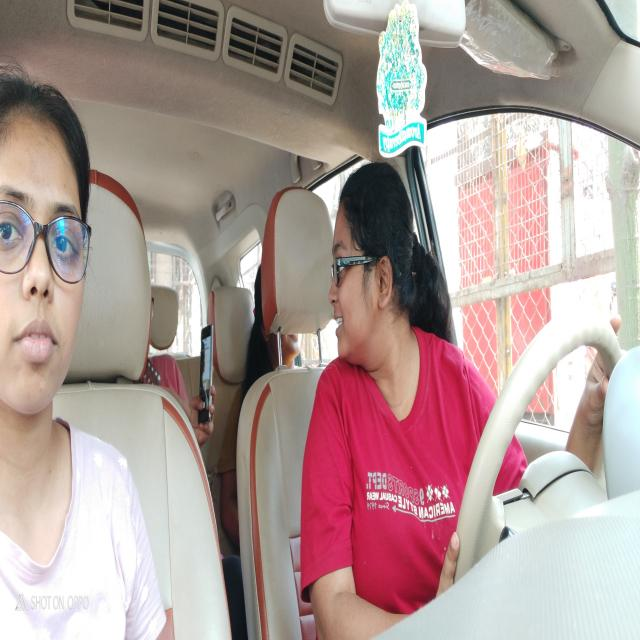LeftRight: (324, 158, 424, 366)
person: (0, 65, 96, 436), (250, 255, 306, 369)
talking: (330, 308, 347, 337)
